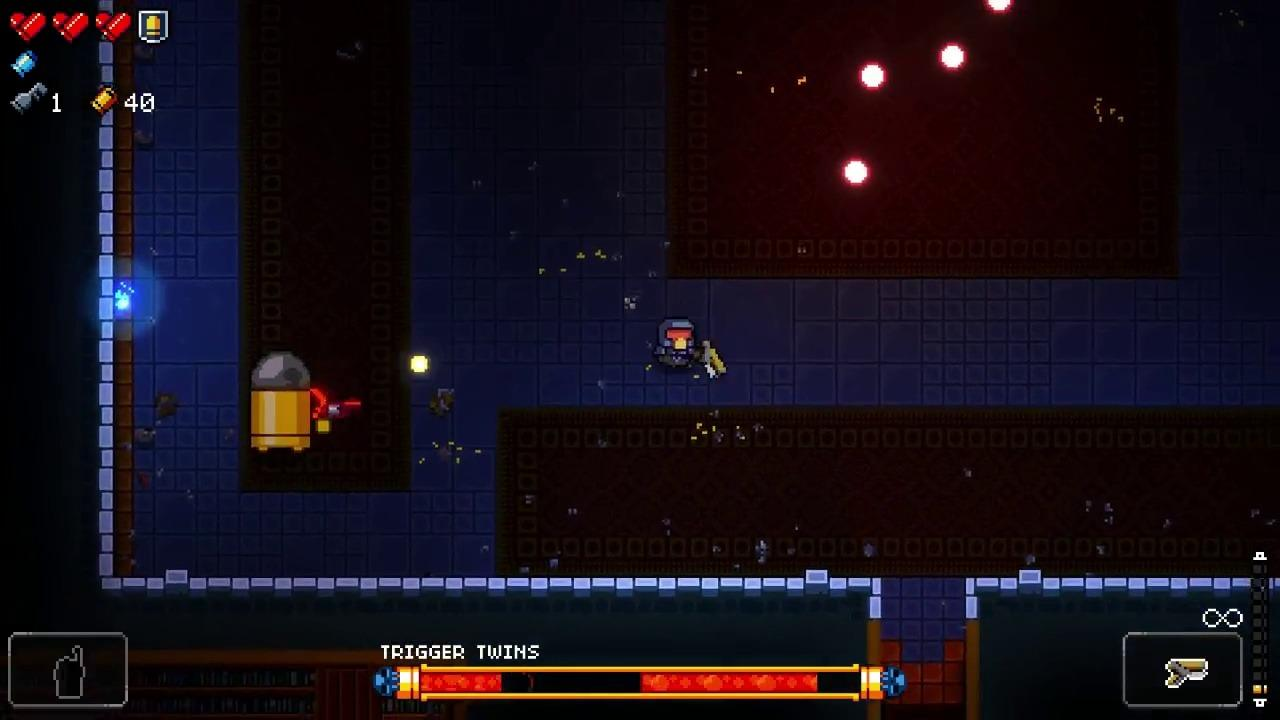boss_shades: (248, 350, 313, 453)
bullet: (938, 44, 969, 78), (858, 61, 888, 92), (842, 159, 871, 190), (988, 0, 1013, 14)
player: (656, 317, 699, 372)
